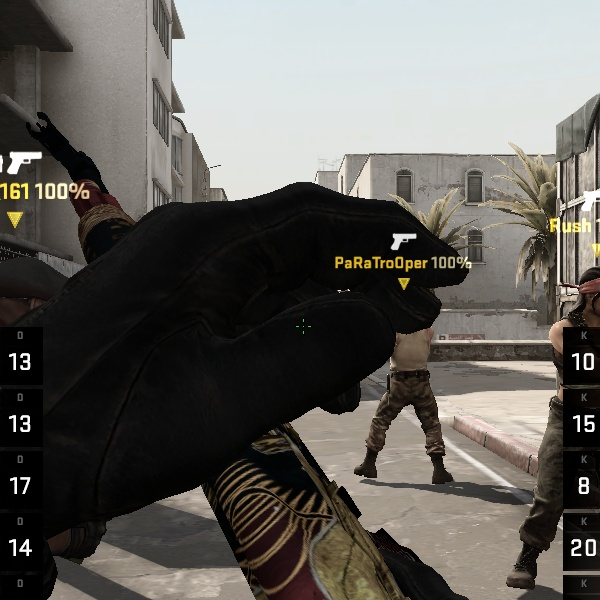t_body: (375, 332, 461, 484)
t_head: (573, 261, 599, 319)
